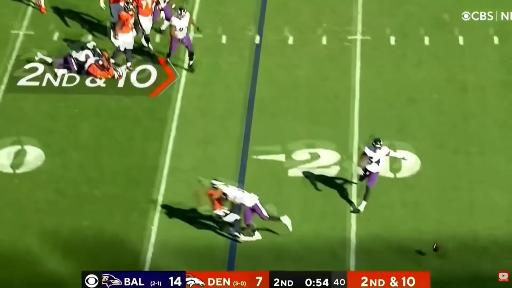Helmet: (123, 1, 135, 12), (372, 138, 383, 149), (114, 67, 123, 79), (211, 180, 224, 188), (177, 7, 186, 18)
Jersey: (219, 185, 258, 206), (364, 146, 390, 172), (87, 58, 114, 79), (171, 12, 190, 39), (209, 189, 225, 211), (134, 0, 155, 16), (119, 11, 134, 33), (158, 0, 169, 7), (110, 0, 124, 4)
Player: (211, 180, 292, 241), (353, 138, 405, 212), (36, 42, 123, 79), (167, 7, 199, 71), (208, 188, 243, 235), (112, 2, 136, 70), (134, 0, 156, 50), (154, 0, 175, 32), (109, 0, 124, 36), (36, 0, 46, 14)
